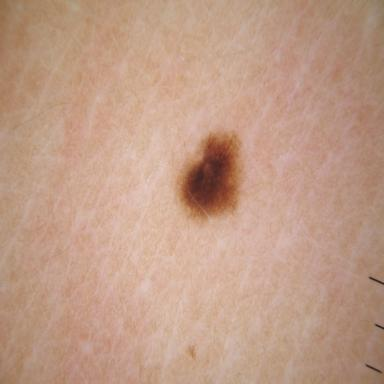nevus: (177, 133, 241, 222)
